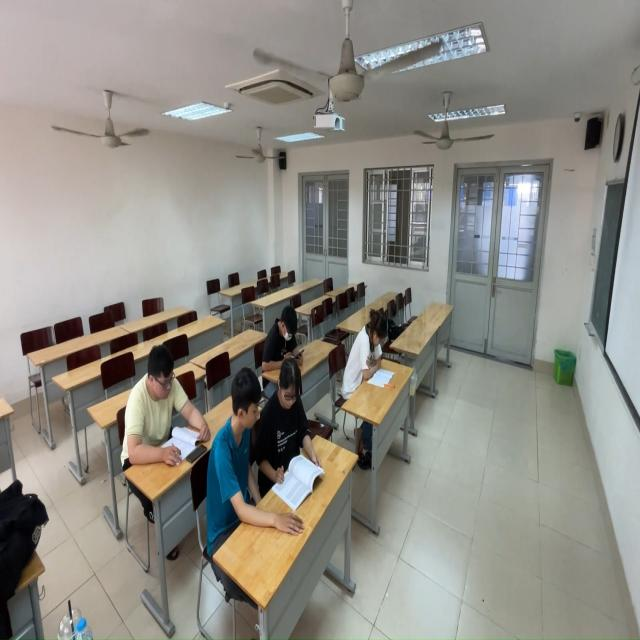read: (208, 365, 281, 549), (119, 345, 213, 472), (270, 355, 323, 487), (345, 302, 397, 401), (264, 306, 306, 368)
